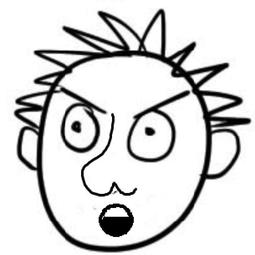ear: (200, 128, 246, 183), (9, 125, 48, 172)
eye: (124, 108, 177, 167), (57, 100, 101, 156)
frowning_eyebrow: (134, 89, 190, 120), (59, 86, 108, 114)
large_nose: (76, 110, 139, 197)
open_mouth: (92, 201, 141, 240)
